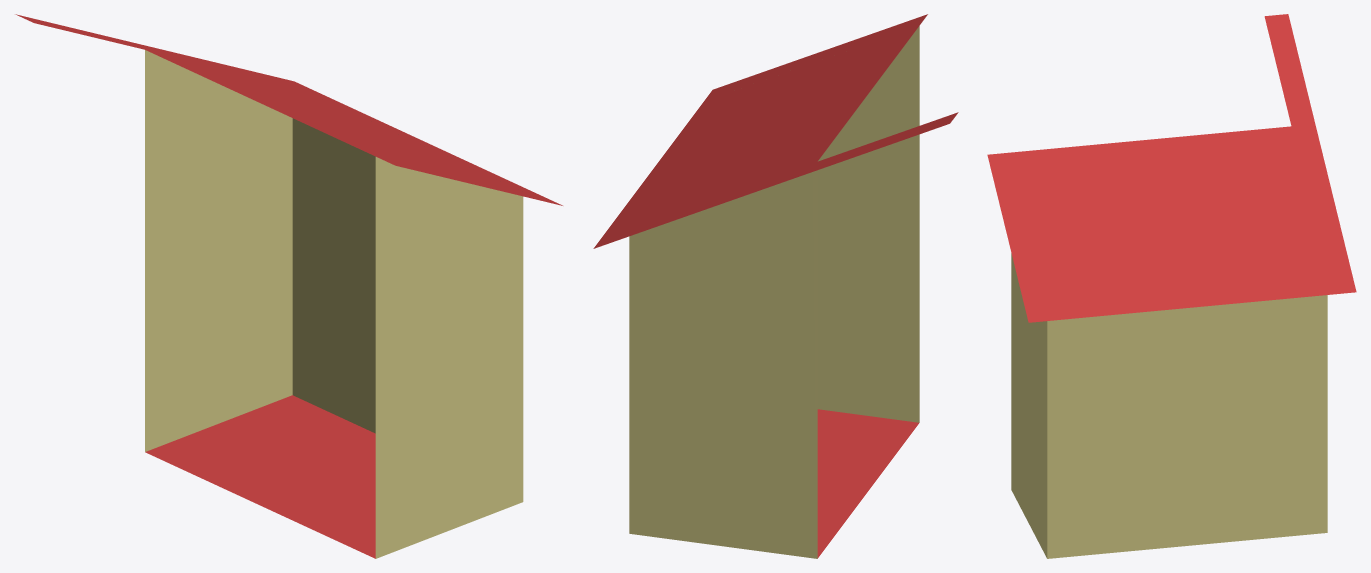
The picture shows the model from 3 angles, left to right: view 1: azimuth 30°, elevation 25°; view 2: azimuth 150°, elevation 25°; view 3: azimuth 270°, elevation 25°; orthographic projection. The views are drawn at different scales.
Bounding box in the file's own units: 7.82 × 7.55 × 8.92.
